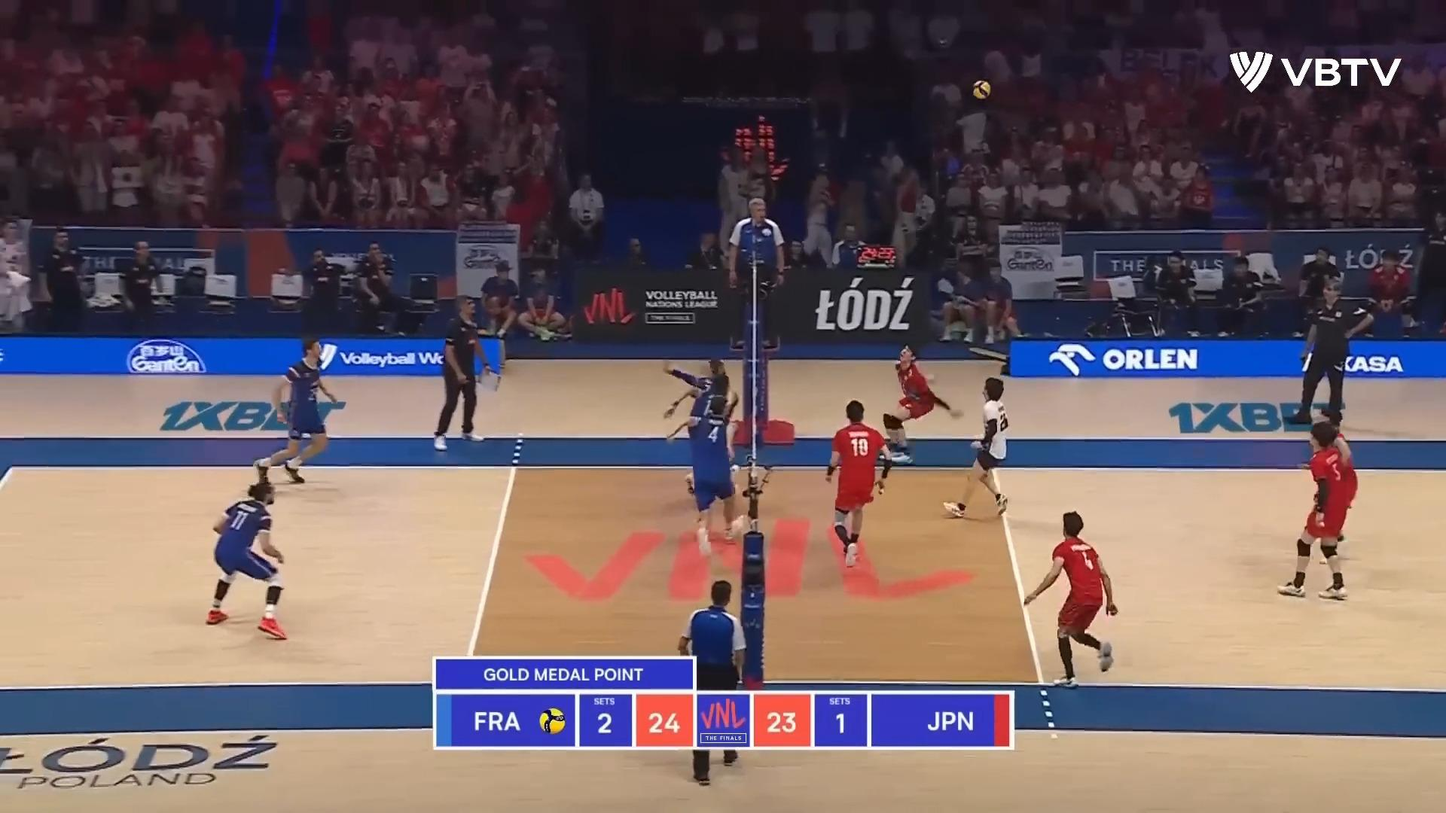ball: (972, 79, 992, 100)
